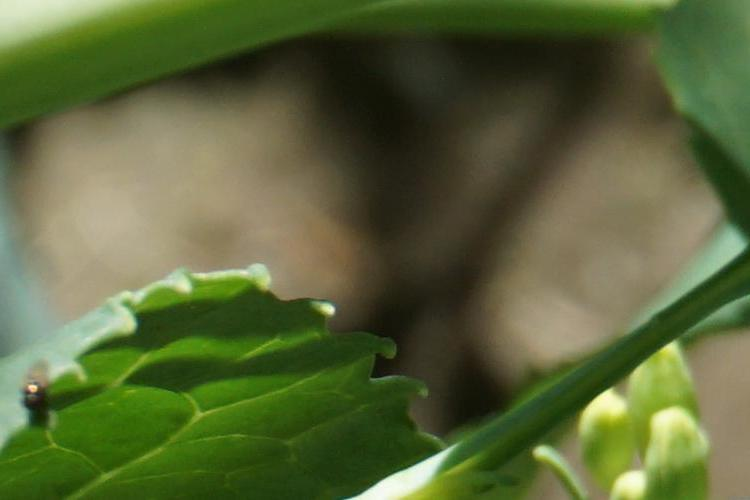bud: (630, 346, 704, 440), (645, 413, 717, 500), (572, 394, 639, 475), (612, 461, 653, 500)
